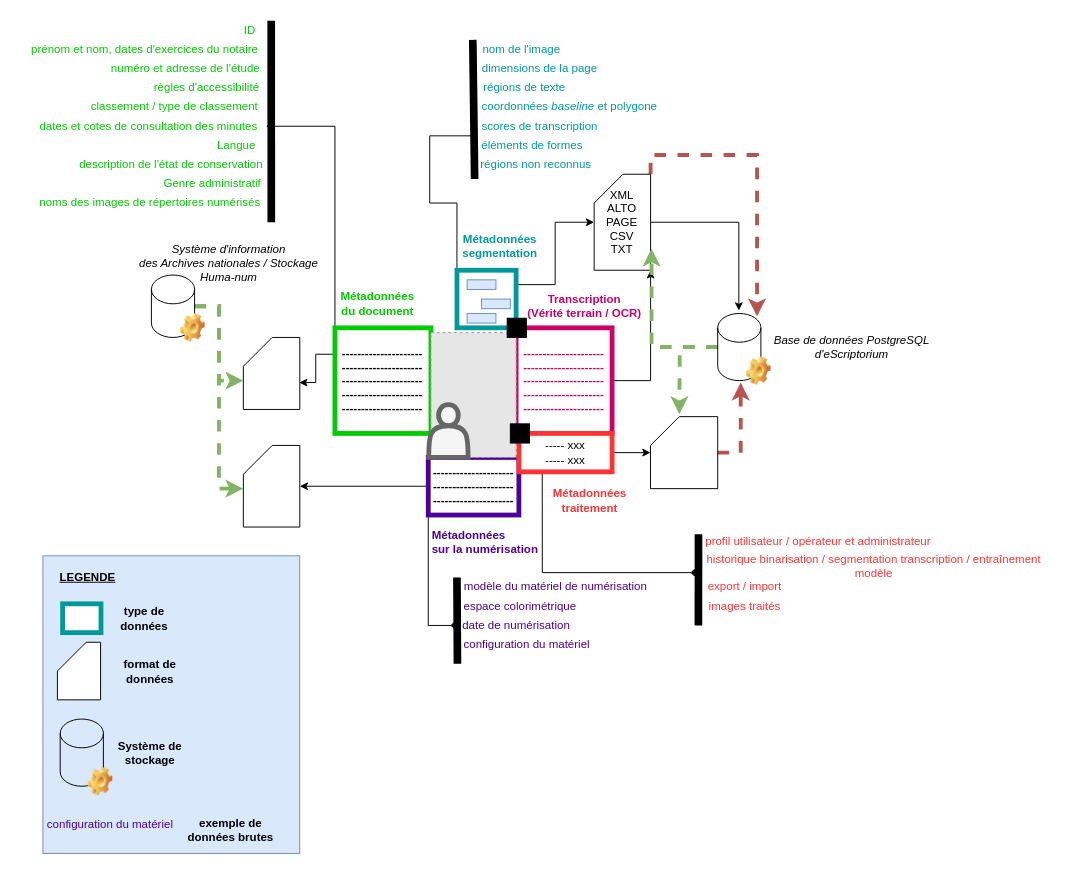
Some shapes in this 1068 by 870 pixel diagram are drawn without their labels. Grey dashed boxes stand in for pictures. The centre of each missing label's shape, as x and y in pixels:
TXT CSV MLMODEL: point (684, 452)
XML EAD EAC: point (271, 372)
XML EXIF: point (271, 485)
